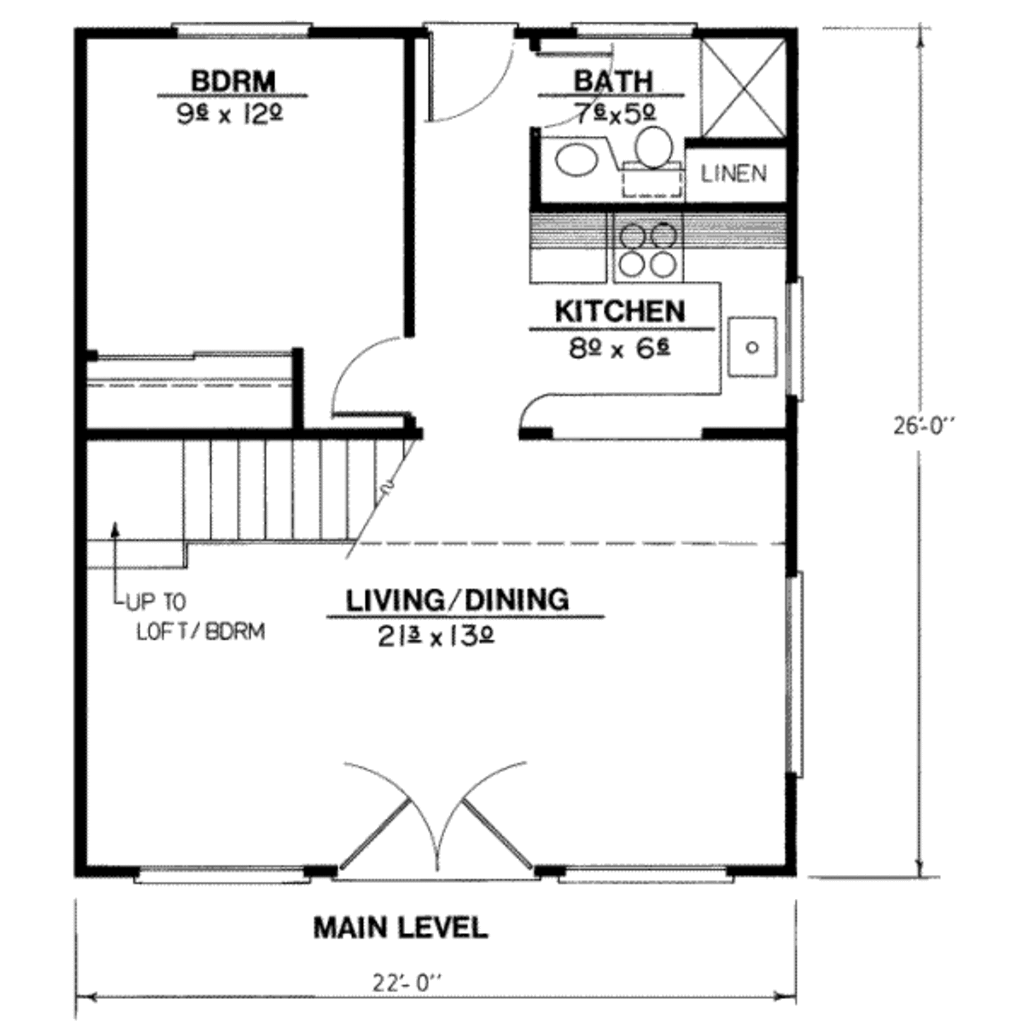door: (342, 790, 531, 881), (325, 328, 421, 432), (423, 25, 515, 133), (544, 52, 617, 125)
kitchen_bar: (513, 214, 785, 276)
large_sink: (617, 114, 683, 201)
small_sink: (720, 300, 782, 389), (547, 138, 610, 192)
stairs: (94, 438, 404, 546)
window: (137, 862, 319, 881), (785, 573, 802, 771), (571, 14, 698, 39), (174, 20, 309, 39)
